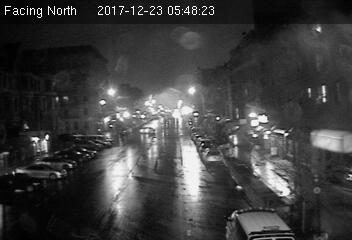car: (201, 146, 224, 164)
police: (224, 207, 294, 240)
